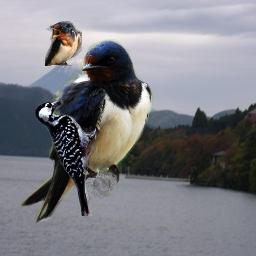Swallow: (20, 39, 154, 227), (45, 21, 82, 66)
Woodpecker: (34, 97, 96, 216)
